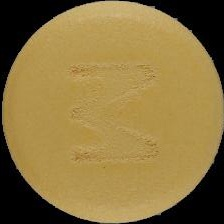0378-2097: (0, 0, 224, 224)
